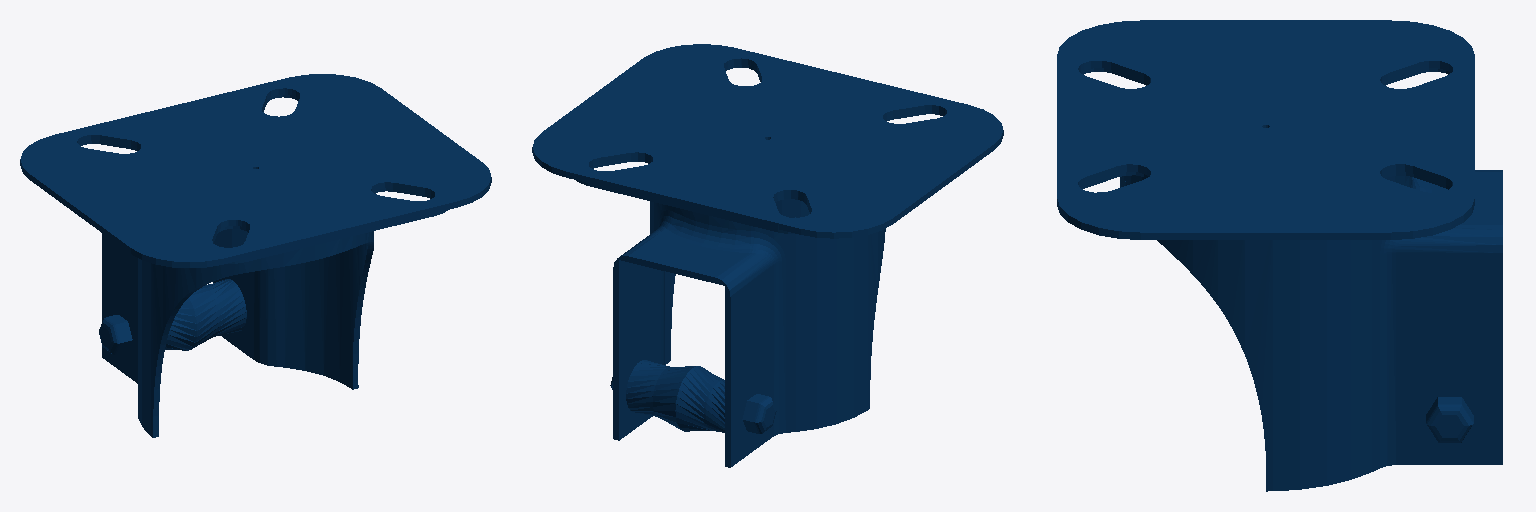
robot.urdf — moria:
<?xml version="1.0" ?>
<!-- =================================================================================== -->
<!-- |    This document was autogenerated by xacro from moria.urdf.xacro               | -->
<!-- |    EDITING THIS FILE BY HAND IS NOT RECOMMENDED                                 | -->
<!-- =================================================================================== -->
<robot name="moria">
  <!-- NEED A FOOTPRINT-->
  <link name="base_footprint"/>
  <!-- ........:::::::: ROBOT DEFINITIONS ::::::::........-->
  <!-- BASE OF THE ROBOT-->
  <joint name="base_footprint_joint" type="fixed">
    <parent link="base_footprint"/>
    <child link="base_link"/>
    <origin xyz="0 0 0"/>
  </joint>
  <link name="base_link">
    <visual>
      <origin rpy="0 0 0" xyz="0 0 0"/>
      <geometry>
        <mesh filename="package://moria_description/meshes/base_link.STL"/>
        &gt;
            
      </geometry>
      <material name="">
        <color rgba="0.0667 0.2431 0.4078 1"/>
        &quot;
            
      </material>
    </visual>
    <collision>
      <origin rpy="0 0 0" xyz="0 0 0"/>
      <geometry>
        <mesh filename="package://moria_description/meshes/base_link.STL"/>
      </geometry>
    </collision>
    <inertial>
      <origin rpy="0 0 0" xyz="0 0 0"/>
      <mass value="4.44"/>
      <inertia ixx="0.02" ixy="0.0" ixz="0.0" iyy="0.04" iyz="0.0" izz="0.05"/>
    </inertial>
  </link>
  <!-- FRONT WHEEL-->
  <joint name="front_base_joint" type="fixed">
    <origin rpy="0 0 0" xyz="0.23 0 0"/>
    <parent link="base_link"/>
    <child link="front_base"/>
  </joint>
  <link name="front_base">
    <visual>
      <origin rpy="0 0 0" xyz="0 0 0"/>
      <geometry>
        <mesh filename="package://moria_description/meshes/front_base.STL"/>
        &gt;
            
      </geometry>
      <material name="">
        <color rgba="0.0667 0.2431 0.4078 1"/>
        &quot;
            
      </material>
    </visual>
    <collision>
      <origin rpy="0 0 0" xyz="0 0 0"/>
      <geometry>
        <mesh filename="package://moria_description/meshes/front_base.STL"/>
      </geometry>
    </collision>
    <inertial>
      <origin rpy="0 0 0" xyz="0 0 0"/>
      <mass value="0.003"/>
      <inertia ixx="5.21" ixy="0.0" ixz="0.0" iyy="7.95" iyz="0.0" izz="1.32"/>
    </inertial>
  </link>
  <joint name="front_radial_joint" type="continuous">
    <parent link="front_base"/>
    <child link="front_radial"/>
    <origin rpy="0 0 1.57" xyz="0 0 0"/>
    <axis xyz="0 0 1"/>
  </joint>
  <link name="front_radial">
    <visual>
      <origin rpy="0 0 0" xyz="0 0 0"/>
      <geometry>
        <mesh filename="package://moria_description/meshes/front_rad.STL"/>
        &gt;
            
      </geometry>
      <material name="">
        <color rgba="0.0667 0.2431 0.4078 1"/>
        &quot;
            
      </material>
    </visual>
    <collision>
      <origin rpy="0 0 0" xyz="0 0 0"/>
      <geometry>
        <mesh filename="package://moria_description/meshes/front_rad.STL"/>
      </geometry>
    </collision>
    <inertial>
      <origin rpy="0 0 0" xyz="0 0 0"/>
      <mass value="0.01"/>
      <inertia ixx="0.0" ixy="0.0" ixz="0.0" iyy="0.0" iyz="0.0" izz="0.0"/>
    </inertial>
  </link>
</robot>

--- What the picture shows (computed from the rendered views, not written in the file) ---
3 views of the same robot in one strip: view 1: azimuth 30°, elevation 25°; view 2: azimuth 150°, elevation 25°; view 3: azimuth 270°, elevation 25° (orthographic).
Robot: moria — 4 links, 3 joints (1 continuous, 2 fixed); root link base_footprint; default pose: every joint at zero.
Visible links, largest first — view 1: front_radial, front_base; view 2: front_radial, front_base; view 3: front_radial, front_base.
Boxes of the visible links, x1,y1,x2,y2 form: front_radial: (60, 81, 451, 437); front_base: (20, 74, 491, 267); front_radial: (572, 52, 963, 467); front_base: (532, 44, 1003, 238); front_radial: (1057, 51, 1502, 491); front_base: (1057, 20, 1474, 239).
Size in the robot's own frame: 0.06 by 0.0534 by 0.04 metres.
Meshes: 3 distinct files referenced, 2 mesh visuals loaded (2 binary STL); not drawn: 1 (file found but could not be loaded).
